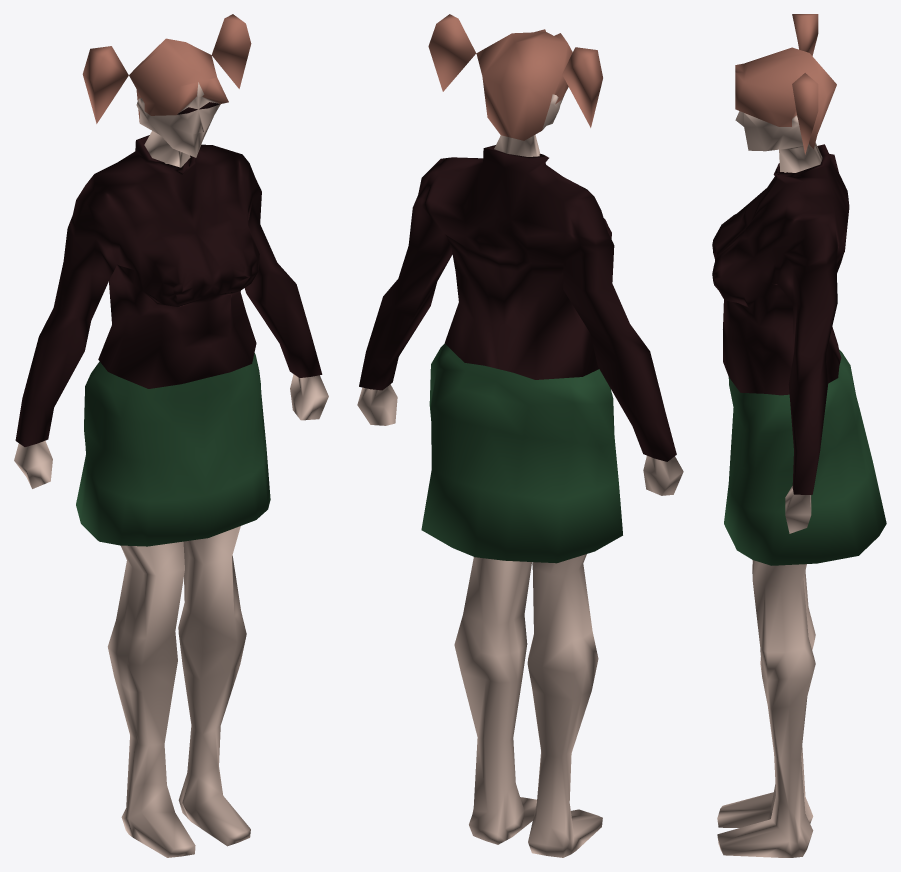
Rendered from woman_base.glb.
3 views of the same model, side by side, from view 1: azimuth 30°, elevation 25°; view 2: azimuth 150°, elevation 25°; view 3: azimuth 270°, elevation 25° (orthographic). The views are drawn at different scales.
Parts seen in each view (by area): view 1: Shirt, Woman, Skirt; view 2: Shirt, Woman, Skirt; view 3: Shirt, Woman, Skirt.
Part boxes in pixels (x1,y1,x2,y2): Shirt: [15, 135, 322, 446]; Woman: [14, 14, 328, 857]; Skirt: [76, 353, 270, 546]; Shirt: [359, 145, 676, 461]; Woman: [357, 14, 683, 857]; Skirt: [421, 343, 622, 563]; Shirt: [712, 144, 849, 494]; Woman: [717, 14, 836, 857]; Skirt: [724, 349, 886, 565].
Size of the model in its own units: 0.5626 by 1.4 by 0.2802.
